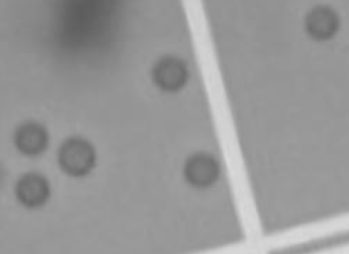cell: (51, 134, 100, 181), (177, 145, 225, 192), (10, 167, 57, 211), (147, 50, 194, 94), (298, 1, 343, 43), (9, 117, 54, 158)
